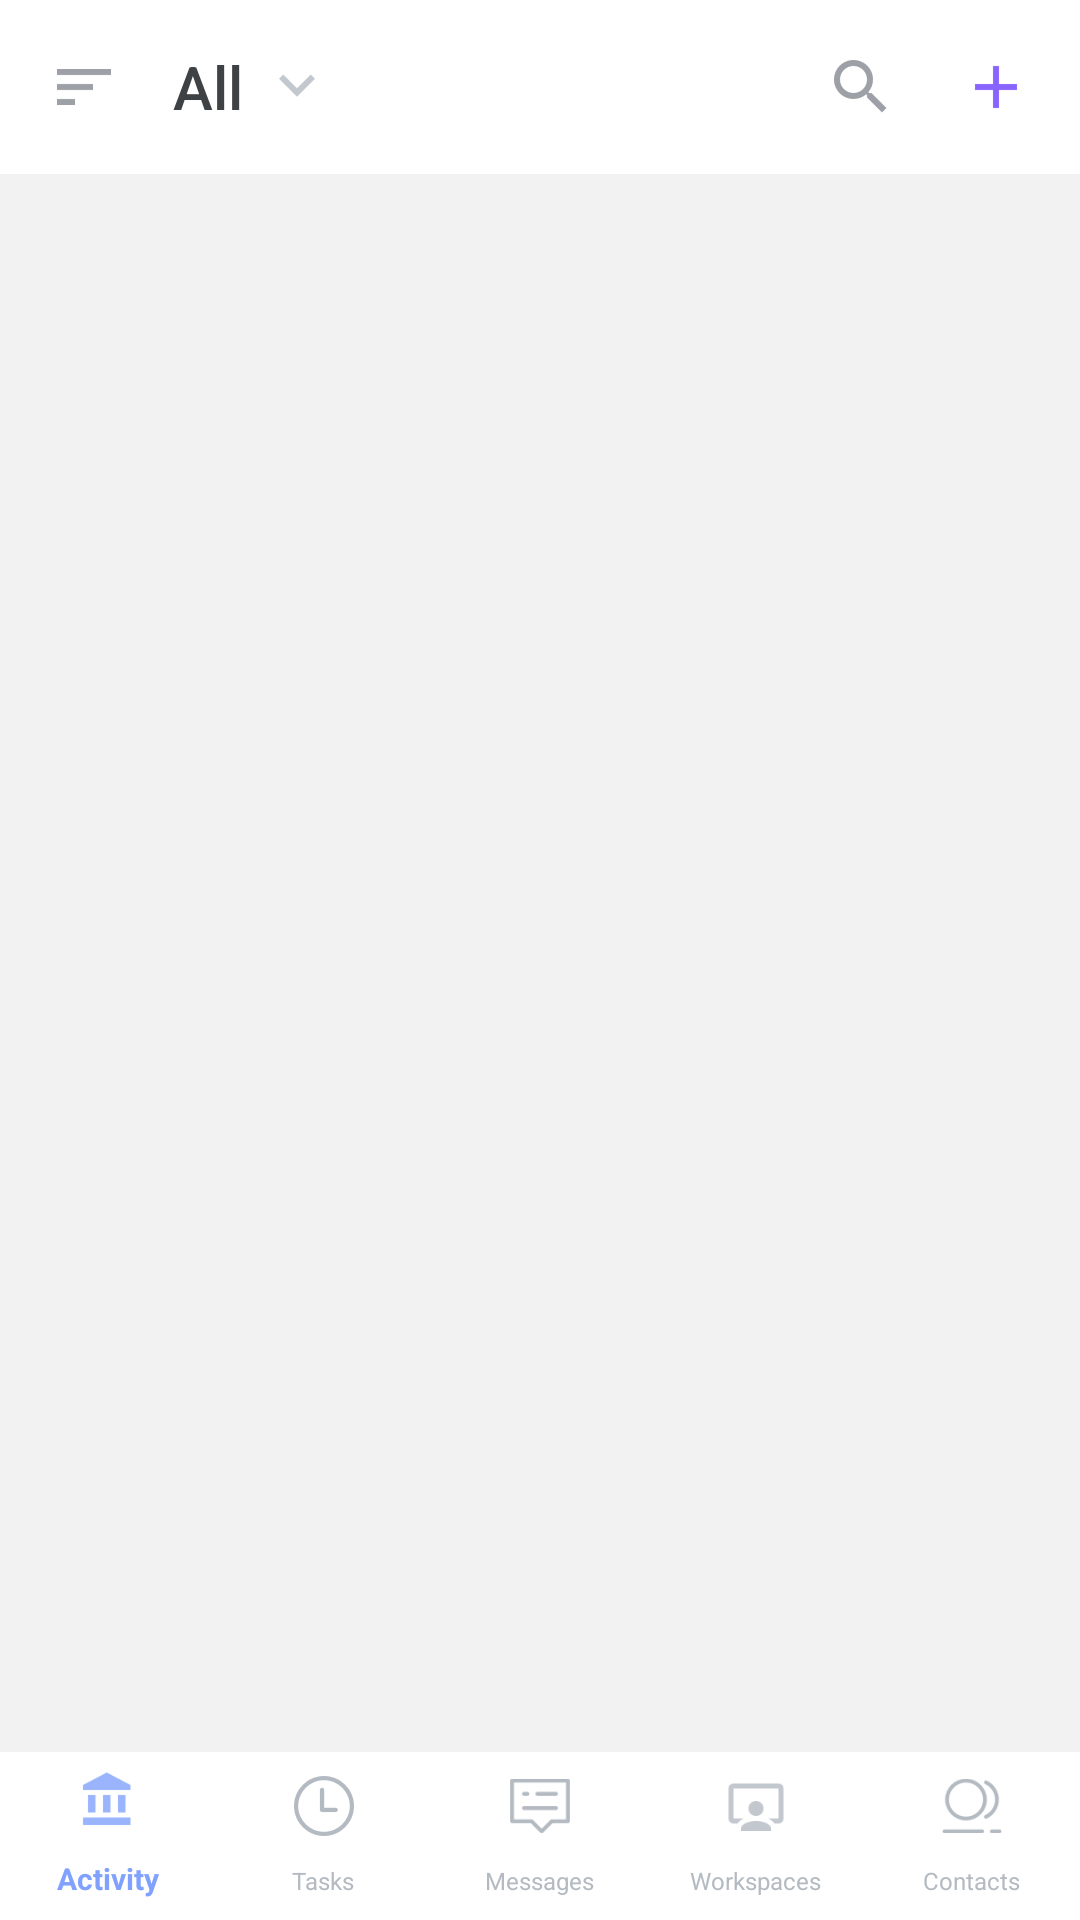

Icon click points for this 1080*1920 phone screenshot, format point (x, y):
add: point (996, 87)
arrow open: point (297, 85)
search home: point (860, 86)
